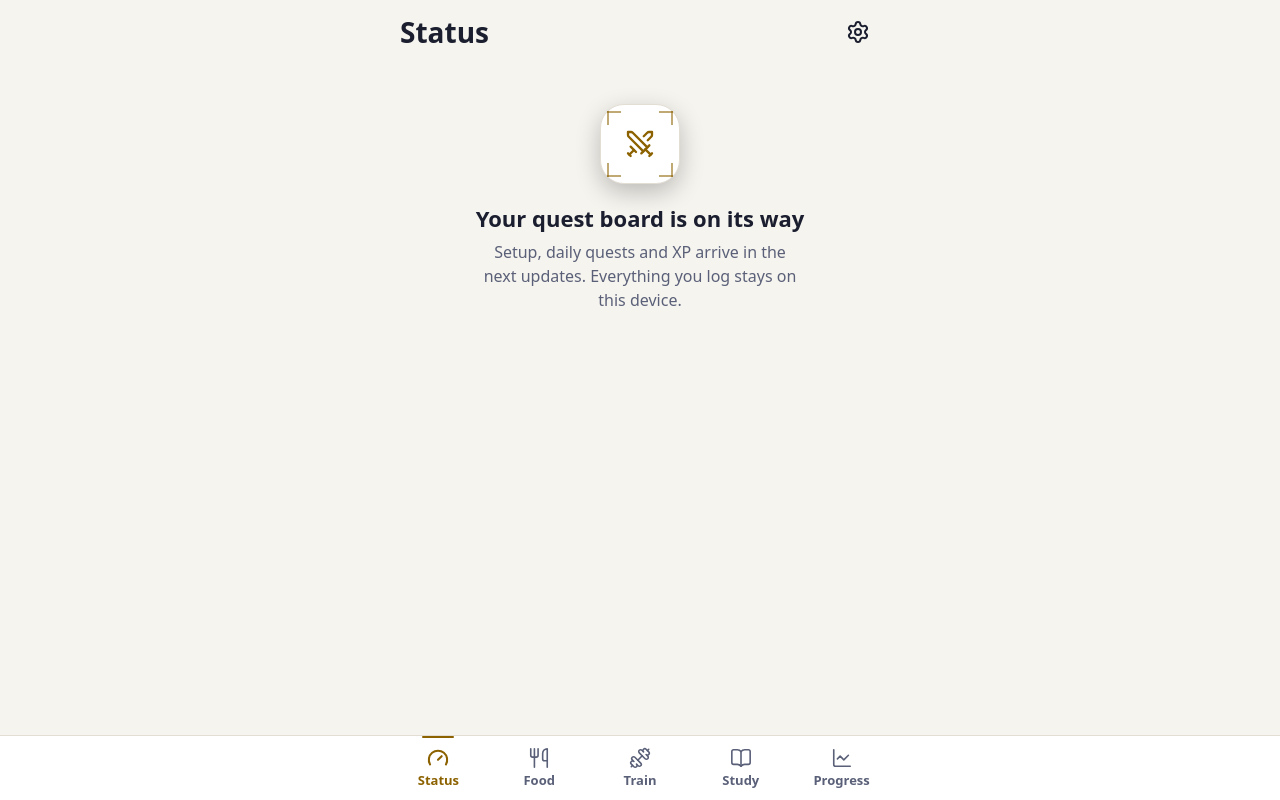
app shell › navigates to Study and shows its designed empty state
Step 1. Click the link "Study" → [741, 768], box [722, 747, 759, 789]
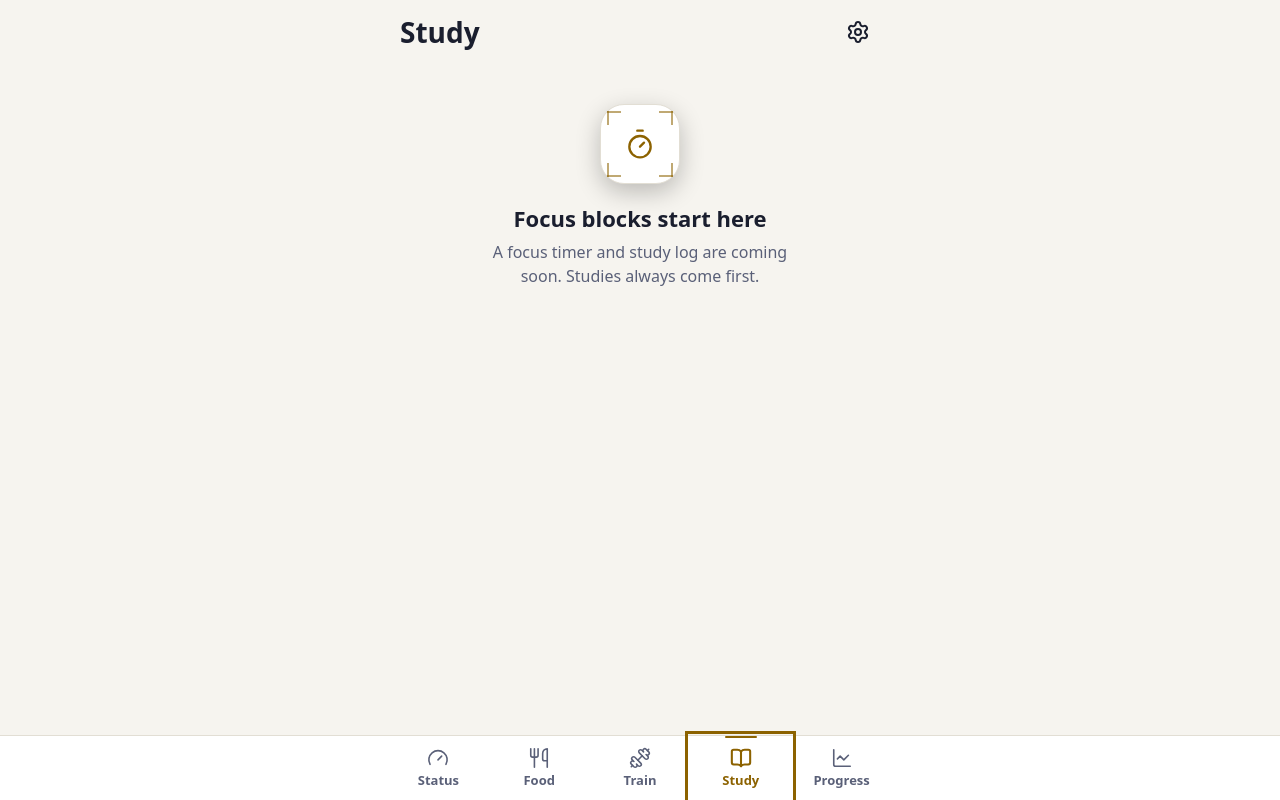
Expected: the heading "Study" is shown, [400, 13, 480, 51]
Expected: the heading "Focus blocks start here" is shown, [514, 204, 766, 232]
